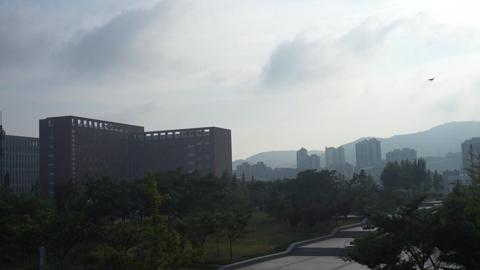UAV: (427, 78, 436, 82)
